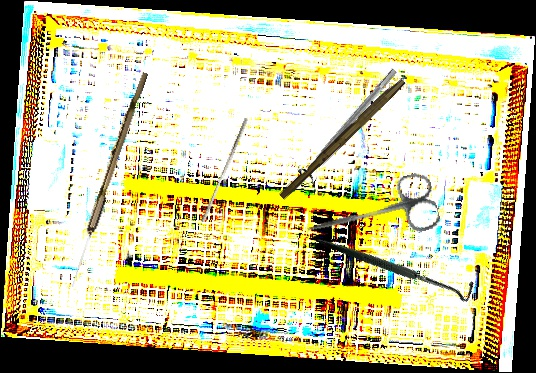Fixation Ring: (296, 63, 404, 185)
Hook Surgical: (316, 181, 480, 349)
Iris Scissors: (300, 170, 443, 260)
Pusher: (200, 115, 249, 225)
Scalpel Handle: (278, 74, 406, 203)
Surgical Spoon: (67, 70, 149, 289)
